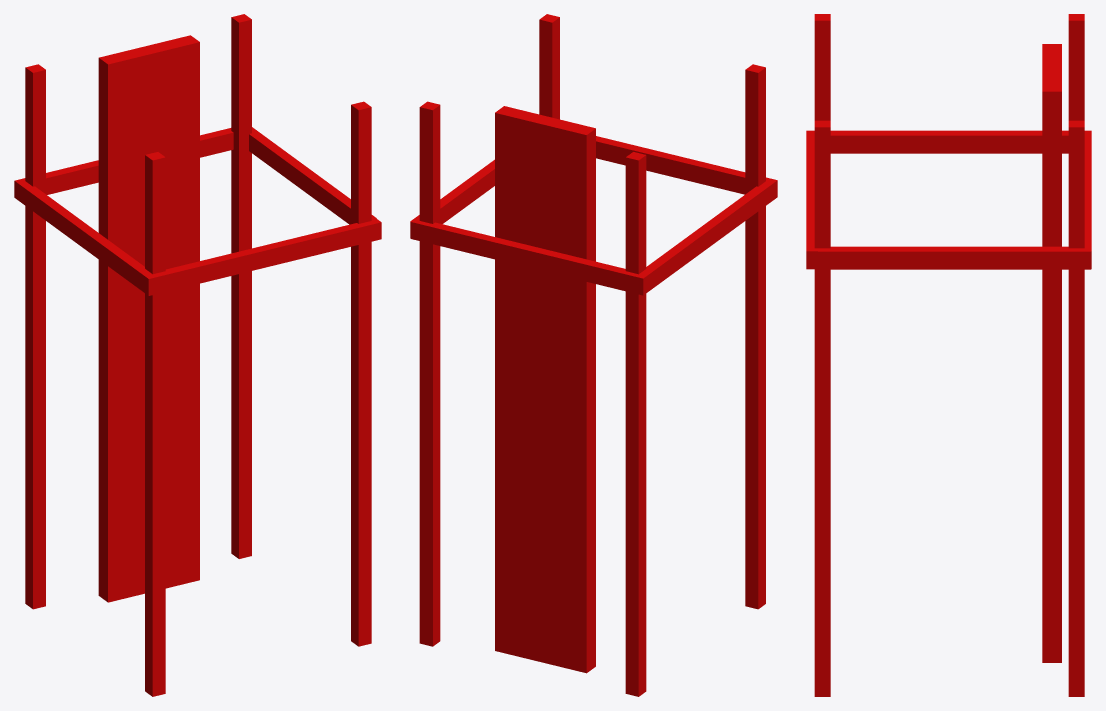
File: SM_Bld_Bunker_Ladder_01_Collision.fbx
3 views of the same model, side by side, from view 1: azimuth 30°, elevation 25°; view 2: azimuth 150°, elevation 25°; view 3: azimuth 270°, elevation 25° (orthographic). The views are drawn at different scales.
Visible parts, largest first — view 1: SM_Bld_Bunker_Ladder_01_Collision; view 2: SM_Bld_Bunker_Ladder_01_Collision; view 3: SM_Bld_Bunker_Ladder_01_Collision.
Part boxes in pixels (box(x1,y1,x2,y2)): SM_Bld_Bunker_Ladder_01_Collision: box(14, 14, 381, 696); SM_Bld_Bunker_Ladder_01_Collision: box(410, 14, 777, 696); SM_Bld_Bunker_Ladder_01_Collision: box(806, 14, 1091, 696).
Size of the model in its own units: 137 by 301 by 136.
